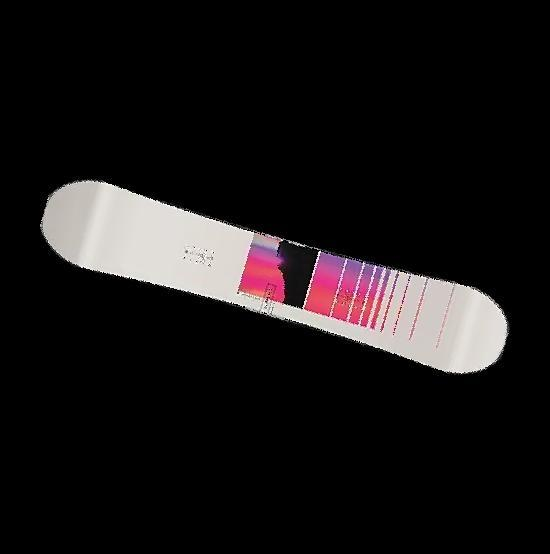Snowboard: (39, 178, 509, 375)
